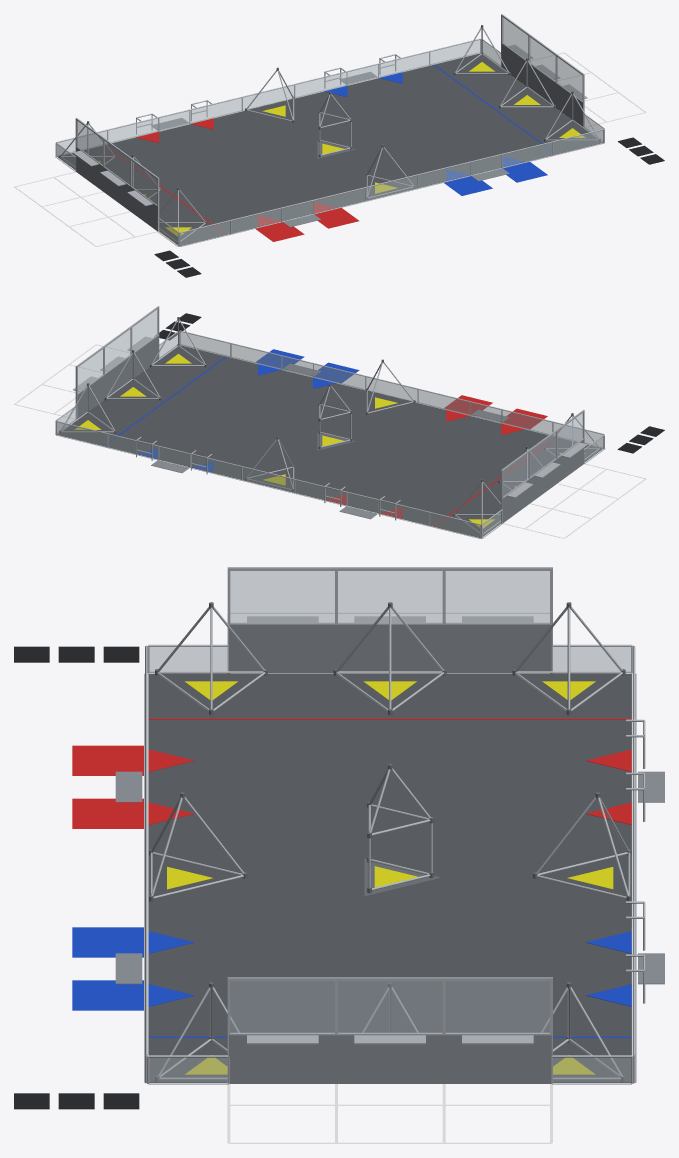
The model's file is field-2005-D3C5pEnn.glb.
The picture shows the model from 3 angles, top to bottom: view 1: azimuth 30°, elevation 25°; view 2: azimuth 150°, elevation 25°; view 3: azimuth 270°, elevation 25°; orthographic projection. The views are drawn at different scales.
Visible parts, largest first — view 1: carpet, guardrail shield, red tetra loaders, red alliance wall base, red alliance wall window, blue alliance wall window, blue end zone line, red end zone line, red station tape, vision targets, red pressure pads, goal connectors; view 2: carpet, guardrail shield, red tetra loaders, red alliance wall base, red alliance wall window, blue alliance wall window, blue end zone line, red end zone line, red station tape, vision targets, red pressure pads, goal connectors; view 3: carpet, red alliance wall base, red tetra loaders, blue alliance wall window, red alliance wall window, guardrail shield, red end zone line, blue end zone line, vision targets, red pressure pads, red station tape, goal connectors.
Boxes of the visible parts, x1,y1,x2,y2 form: carpet: (57,53,602,245); guardrail shield: (57,39,603,245); red tetra loaders: (55,14,604,246); red alliance wall base: (76,44,582,231); red alliance wall window: (77,121,157,204); blue alliance wall window: (502,17,582,100); blue end zone line: (324,64,556,195); red end zone line: (105,118,358,241); red station tape: (14,52,646,246); vision targets: (75,62,585,236); red pressure pads: (154,137,664,277); goal connectors: (59,25,600,243); carpet: (57,345,602,537); guardrail shield: (57,331,603,537); red tetra loaders: (55,306,604,538); red alliance wall base: (77,335,584,522); red alliance wall window: (503,413,583,496); blue alliance wall window: (78,309,157,392); blue end zone line: (104,349,359,472); red end zone line: (326,395,555,526); red station tape: (14,344,646,538); vision targets: (75,354,585,528); red pressure pads: (154,313,664,453); goal connectors: (59,317,600,535); carpet: (148,674,632,1082); red alliance wall base: (115,625,664,1083); red tetra loaders: (144,567,645,1084); blue alliance wall window: (230,981,549,1033); red alliance wall window: (230,571,549,622); guardrail shield: (148,646,632,1082); red end zone line: (72,718,631,828); blue end zone line: (72,927,631,1037); vision targets: (167,681,613,1074); red pressure pads: (14,646,139,1109); red station tape: (227,612,552,1143); goal connectors: (149,602,631,1081).
Size of the model in its own units: 21.39 by 2.14 by 11.07.
